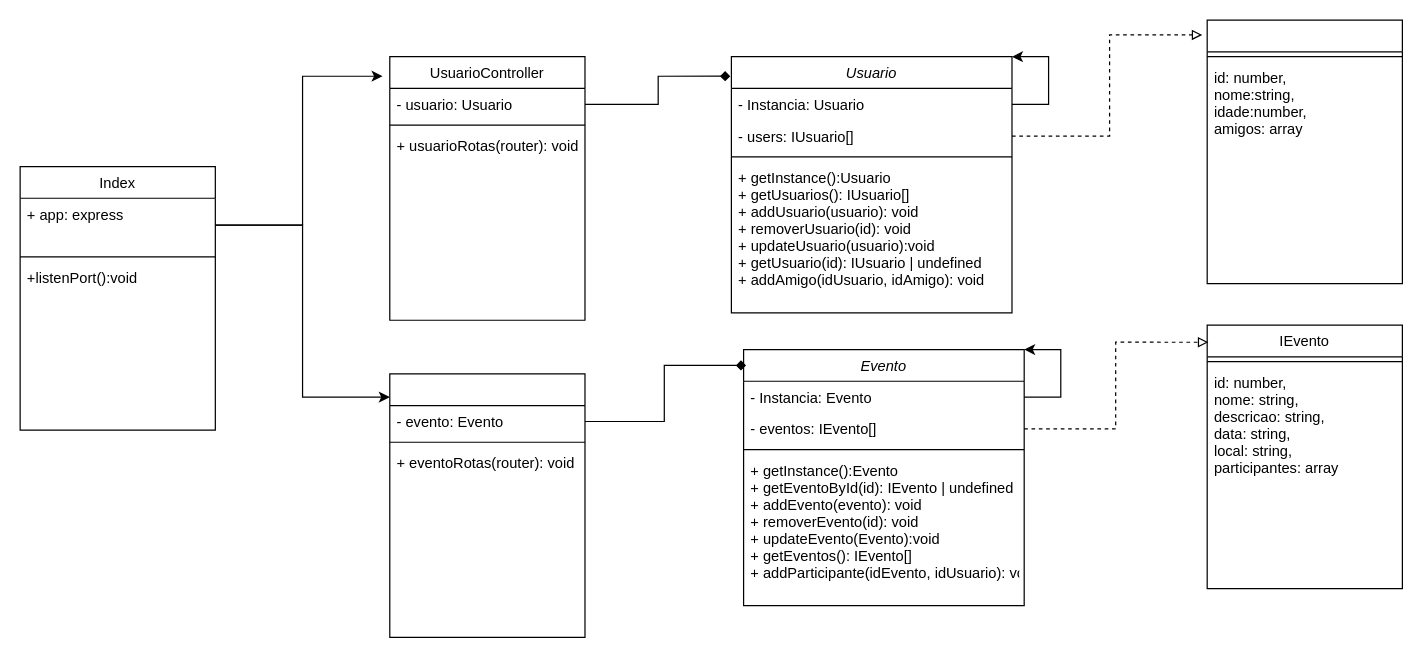
This 1423x658 diagram has some shape labels left out. Here are the shapes that lost their labels. From the top down, the box of each, then its label:
(1206, 19, 1402, 284): IUsuario
(389, 373, 585, 637): EventoController
